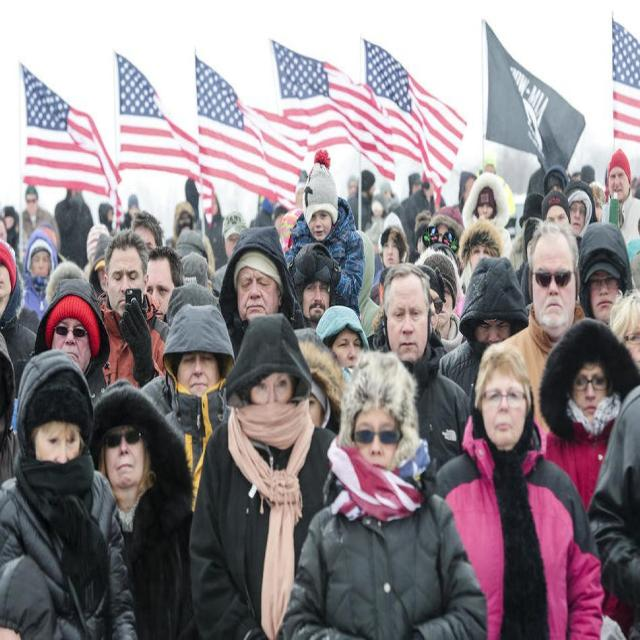body: (280, 347, 482, 639), (435, 336, 612, 639), (185, 310, 343, 639), (348, 162, 639, 336), (16, 153, 303, 295), (540, 316, 639, 639), (0, 345, 104, 639), (90, 377, 196, 640), (371, 263, 471, 467), (497, 217, 588, 436), (161, 307, 237, 512), (284, 149, 364, 321), (443, 254, 533, 401), (96, 228, 172, 390), (218, 224, 304, 360), (288, 241, 344, 332), (601, 146, 640, 260), (1, 184, 14, 471), (310, 337, 356, 417), (20, 229, 59, 323), (20, 182, 61, 264), (44, 259, 90, 308)
